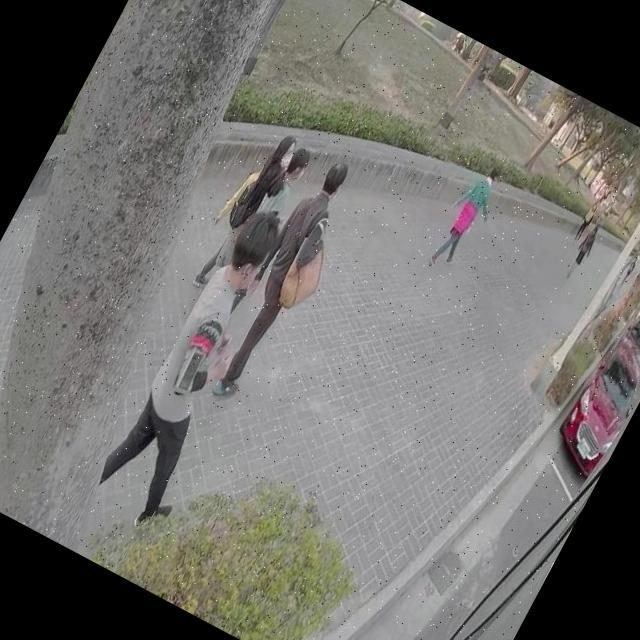person: (85, 200, 314, 535), (197, 150, 373, 410), (213, 130, 299, 266), (187, 158, 268, 284), (423, 155, 508, 275), (260, 143, 311, 215), (561, 218, 603, 282), (571, 199, 597, 239), (594, 209, 608, 227)
